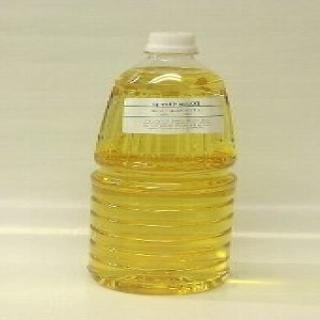Plastic-bottle: (87, 31, 239, 295)
